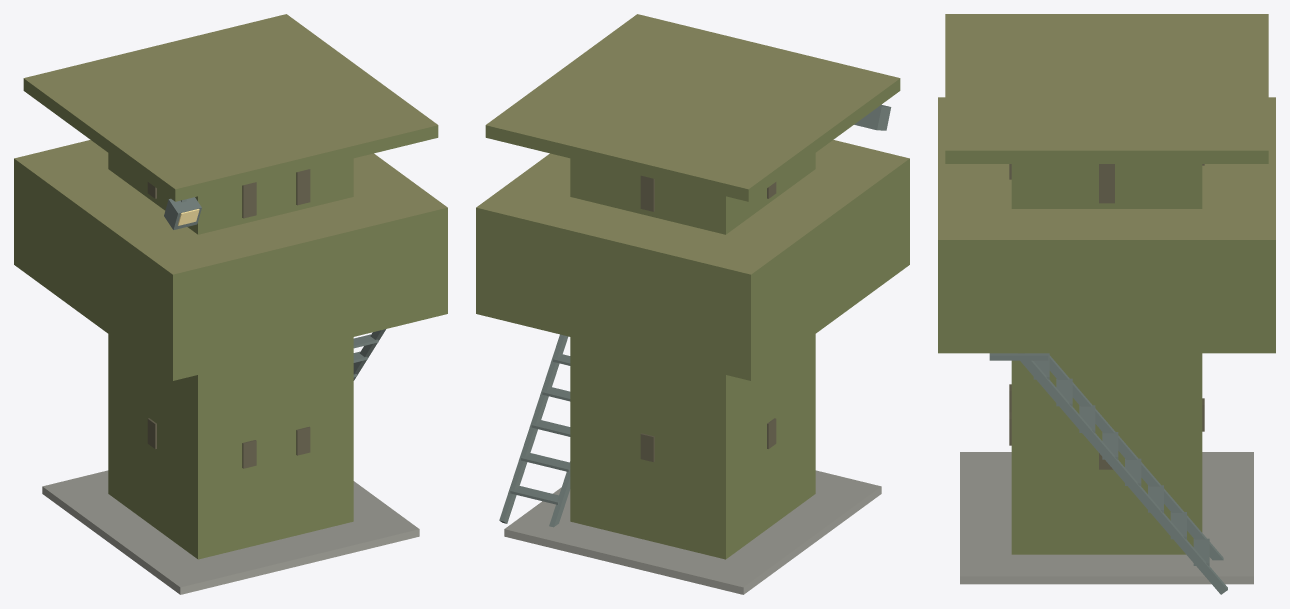
File: SM_TorretaVigia_v0_LOD0.fbx
The picture shows the model from 3 angles, left to right: view 1: azimuth 30°, elevation 25°; view 2: azimuth 150°, elevation 25°; view 3: azimuth 270°, elevation 25°; orthographic projection. The views are drawn at different scales.
Parts seen in each view (by area): view 1: SM_torreta_vigia_v0_LOD0; view 2: SM_torreta_vigia_v0_LOD0; view 3: SM_torreta_vigia_v0_LOD0.
Part boxes in pixels (left/top/right/bottom): SM_torreta_vigia_v0_LOD0: left=14, top=14, right=447, bottom=594; SM_torreta_vigia_v0_LOD0: left=476, top=14, right=909, bottom=594; SM_torreta_vigia_v0_LOD0: left=938, top=14, right=1275, bottom=594.
Bounding box in the file's own units: 4.65 × 6.64 × 4.6.
